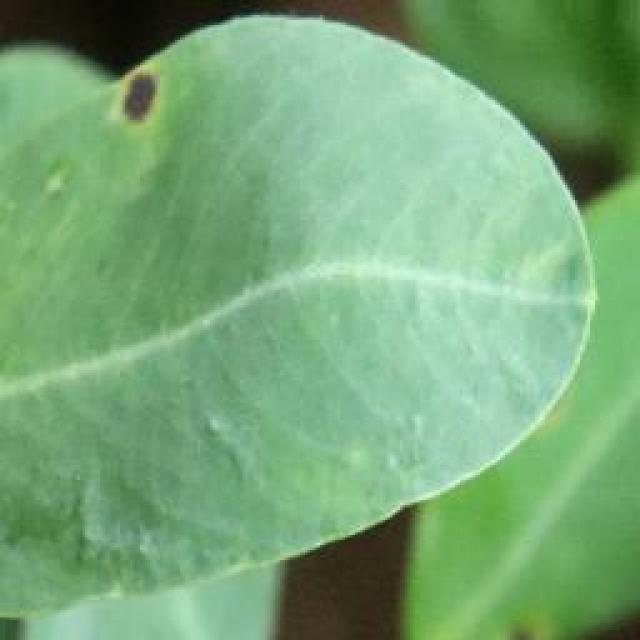Sigatoka: (74, 42, 177, 144)
